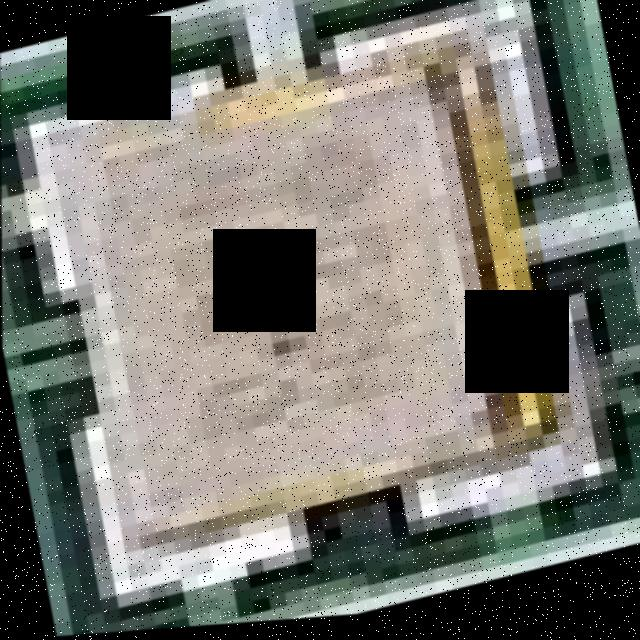clock Q1: (4, 0, 638, 623)
